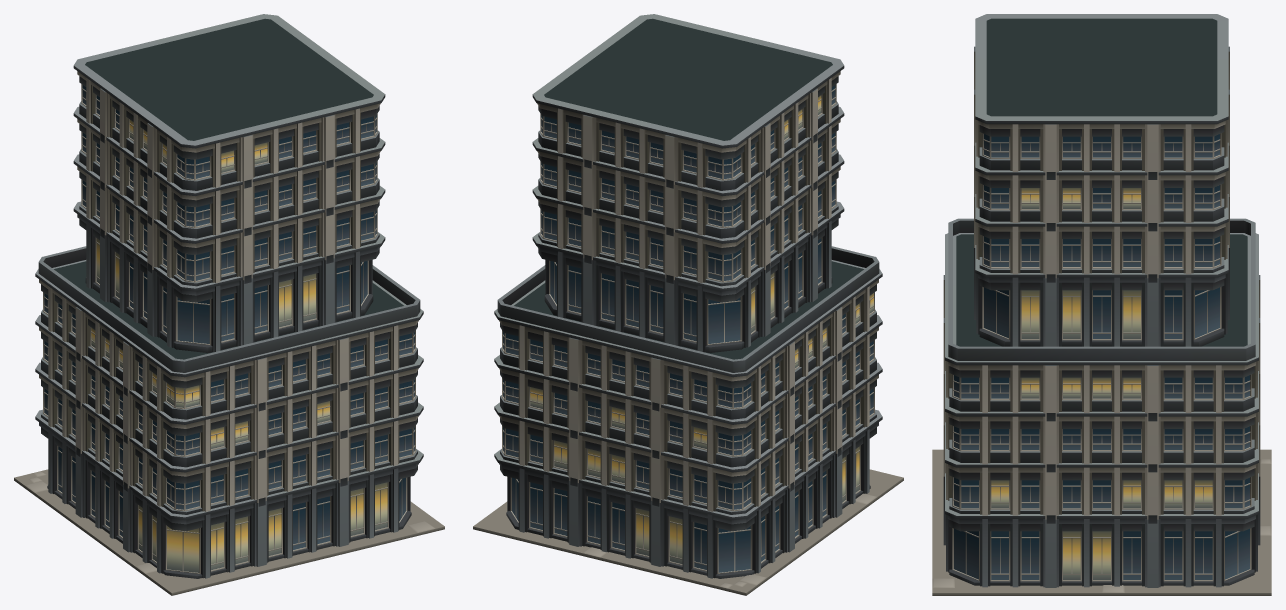
File: Building_14D.fbx
The picture shows the model from 3 angles, left to right: view 1: azimuth 30°, elevation 25°; view 2: azimuth 150°, elevation 25°; view 3: azimuth 270°, elevation 25°; orthographic projection. The views are drawn at different scales.
Visible parts, largest first — view 1: Building_14D, Window_Lights_14D; view 2: Building_14D, Window_Lights_14D; view 3: Building_14D, Window_Lights_14D.
Boxes of the visible parts, x1,y1,x2,y2 form: Building_14D: (14, 14, 444, 595); Window_Lights_14D: (91, 119, 387, 572); Building_14D: (473, 14, 903, 595); Window_Lights_14D: (530, 95, 873, 564); Building_14D: (932, 14, 1271, 595); Window_Lights_14D: (991, 188, 1212, 579).
Bounding box in the file's own units: 3000 × 4460 × 3000.
